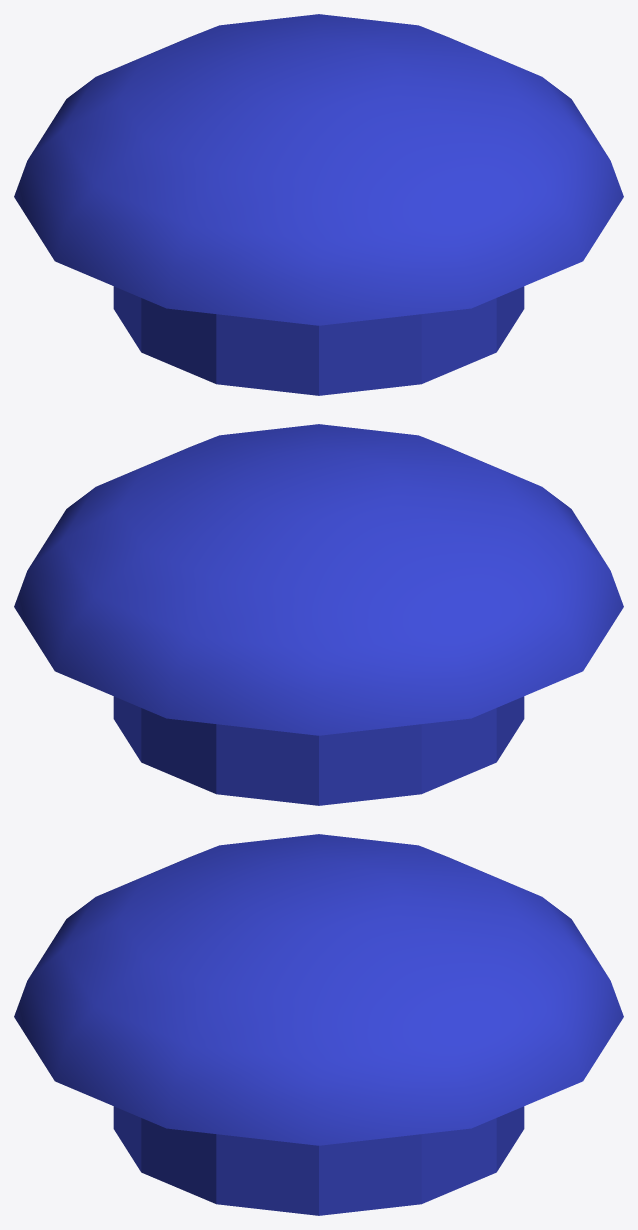
The model's file is blueButton.fbx.
The picture shows the model from 3 angles, top to bottom: view 1: azimuth 30°, elevation 25°; view 2: azimuth 150°, elevation 25°; view 3: azimuth 270°, elevation 25°; orthographic projection.
Visible parts, largest first — view 1: blueButton; view 2: blueButton; view 3: blueButton.
Part boxes in pixels (x1,y1,x2,y2): blueButton: [14, 14, 623, 395]; blueButton: [14, 424, 623, 805]; blueButton: [14, 834, 623, 1215].
Bounding box in the file's own units: 14.89 × 6.31 × 14.89.
